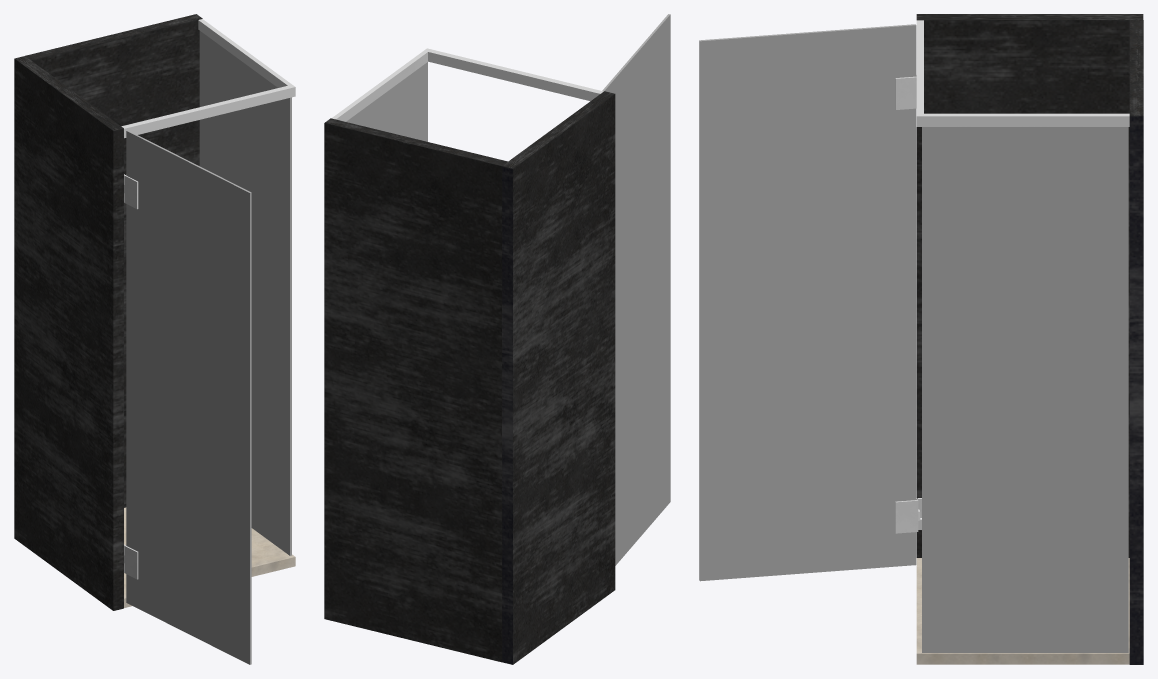
File: shower.glb
3 renders of one model, left to right at view 1: azimuth 30°, elevation 25°; view 2: azimuth 150°, elevation 25°; view 3: azimuth 270°, elevation 25°, orthographic. The views are drawn at different scales.
Parts seen in each view (by area): view 1: Ducha_low_cristal_0, Ducha_low_ducha_0; view 2: Ducha_low_ducha_0, Ducha_low_cristal_0; view 3: Ducha_low_cristal_0, Ducha_low_ducha_0.
Boxes of the visible parts, x1,y1,x2,y2 form: Ducha_low_cristal_0: [126, 31, 291, 664]; Ducha_low_ducha_0: [14, 14, 295, 610]; Ducha_low_ducha_0: [324, 48, 615, 664]; Ducha_low_cristal_0: [346, 14, 670, 565]; Ducha_low_cristal_0: [699, 24, 1128, 652]; Ducha_low_ducha_0: [895, 14, 1143, 664].
Size of the model in its own units: 1.09 by 2.75 by 2.02.
Materials: 2 (2 with a texture image).
